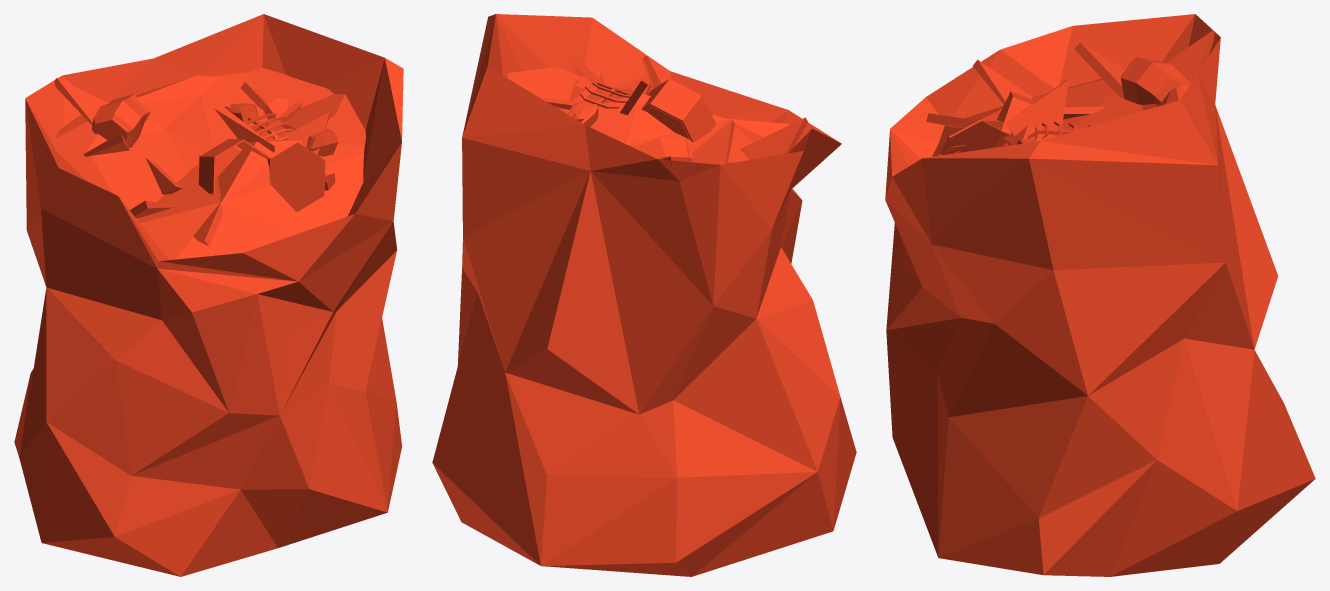
Rendered from SM_Trash_Open_City.fbx.
The picture shows the model from 3 angles, left to right: view 1: azimuth 30°, elevation 25°; view 2: azimuth 150°, elevation 25°; view 3: azimuth 270°, elevation 25°; orthographic projection. The views are drawn at different scales.
Parts seen in each view (by area): view 1: SM_Trash_Open_City; view 2: SM_Trash_Open_City; view 3: SM_Trash_Open_City.
Part boxes in pixels (x1,y1,x2,y2): SM_Trash_Open_City: (14, 14, 403, 576); SM_Trash_Open_City: (432, 14, 856, 576); SM_Trash_Open_City: (885, 14, 1315, 576).
Bounding box in the file's own units: 0.4654 × 0.5333 × 0.4521.
